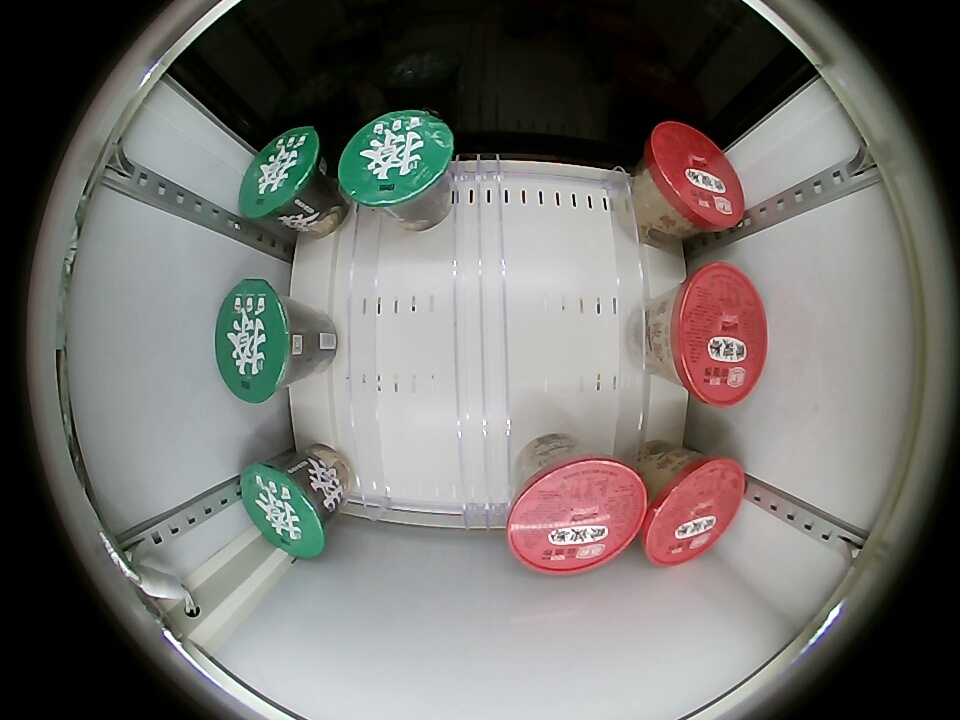liaomian: (337, 110, 455, 214), (214, 280, 305, 403), (240, 459, 330, 559), (238, 127, 329, 224)
suanlafen: (507, 448, 648, 574), (652, 263, 767, 406), (641, 450, 746, 566), (637, 121, 744, 234)
